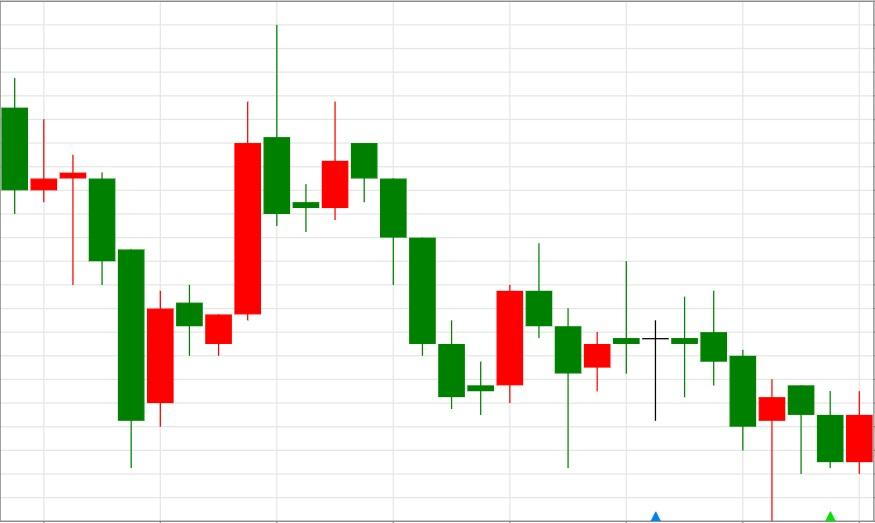morning_star_rise: (351, 141, 525, 415)
three_black_crows_fall: (291, 100, 437, 355)
